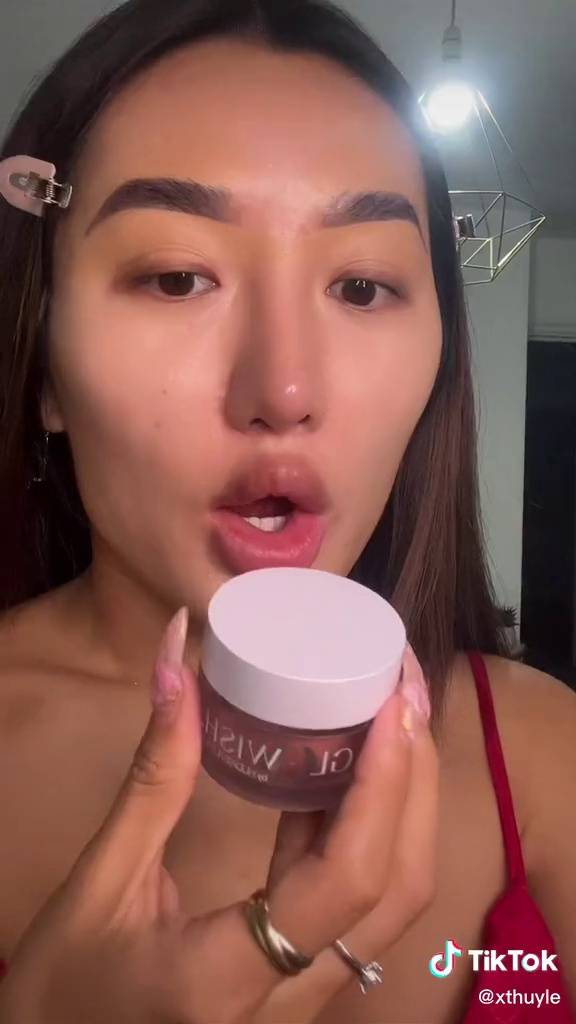train' :'yolo_data/train/images',: (178, 558, 413, 828)
